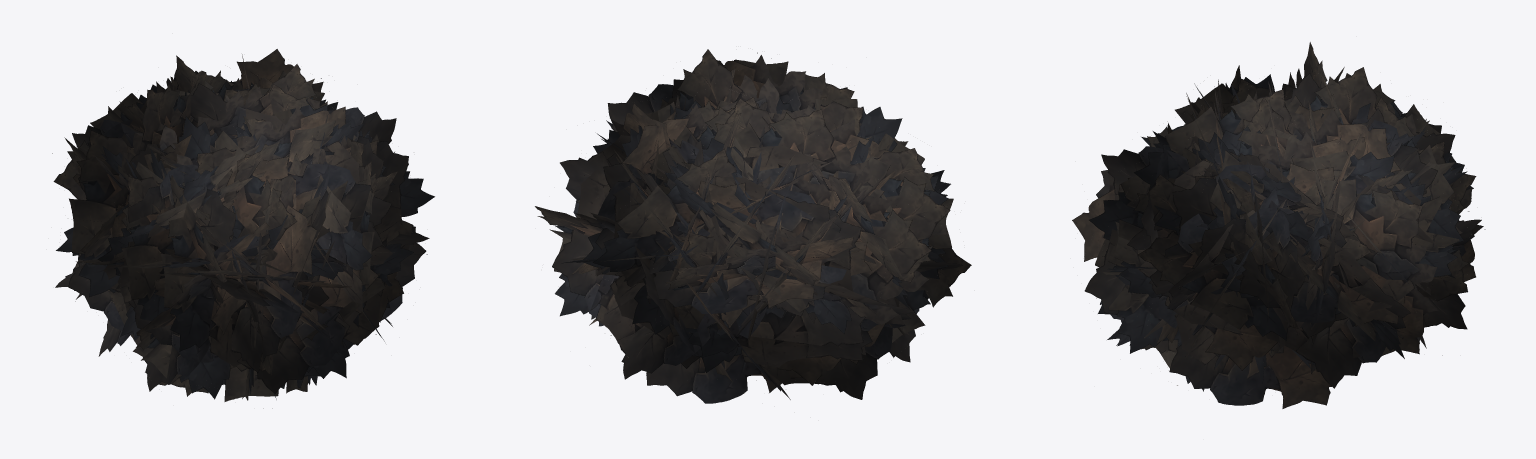
File: Arbusto.fbx
The picture shows the model from 3 angles, left to right: view 1: azimuth 30°, elevation 25°; view 2: azimuth 150°, elevation 25°; view 3: azimuth 270°, elevation 25°; orthographic projection. The views are drawn at different scales.
Visible parts, largest first — view 1: arbustoPapu; view 2: arbustoPapu; view 3: arbustoPapu.
Part boxes in pixels (left/top/right/bottom): arbustoPapu: left=52, top=49, right=434, bottom=408; arbustoPapu: left=535, top=49, right=971, bottom=403; arbustoPapu: left=1072, top=42, right=1485, bottom=408.
Bounding box in the file's own units: 341 × 291 × 349.
